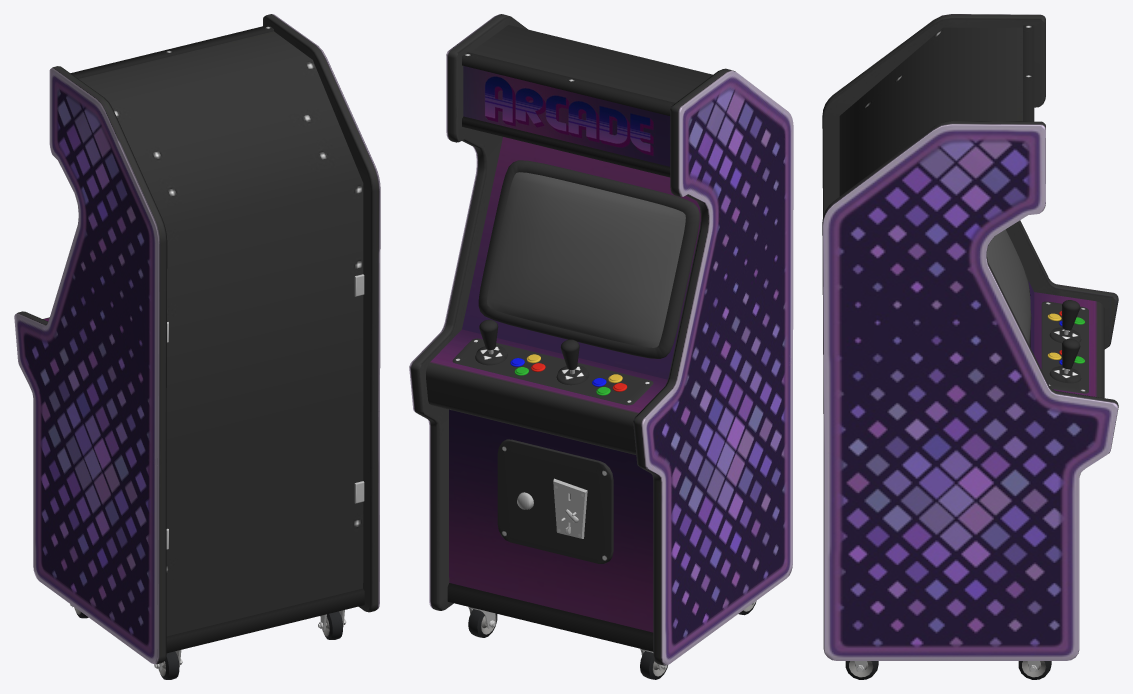
File: arcade_machine.glb
The picture shows the model from 3 angles, left to right: view 1: azimuth 30°, elevation 25°; view 2: azimuth 150°, elevation 25°; view 3: azimuth 270°, elevation 25°; orthographic projection. The views are drawn at different scales.
Visible parts, largest first — view 1: ARCADELOWMAINX2; view 2: ARCADELOWMAINX2; view 3: ARCADELOWMAINX2.
Part boxes in pixels (bbox=[...]): ARCADELOWMAINX2: bbox=[14, 14, 380, 679]; ARCADELOWMAINX2: bbox=[409, 14, 793, 679]; ARCADELOWMAINX2: bbox=[822, 14, 1118, 679].
Size of the model in its own units: 3.13 by 7.45 by 3.51.
1 material, 1 textured.
